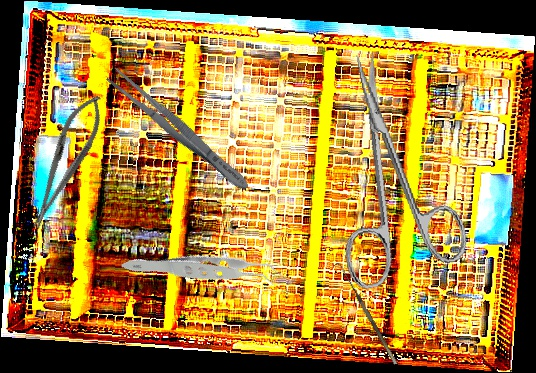Dressing Forceps: (104, 65, 254, 196)
Hook Surgical: (332, 260, 398, 369)
Iris Scissors: (308, 41, 473, 292)
Needle Holder: (18, 88, 113, 235)
Tissue Forceps: (119, 195, 292, 350)
